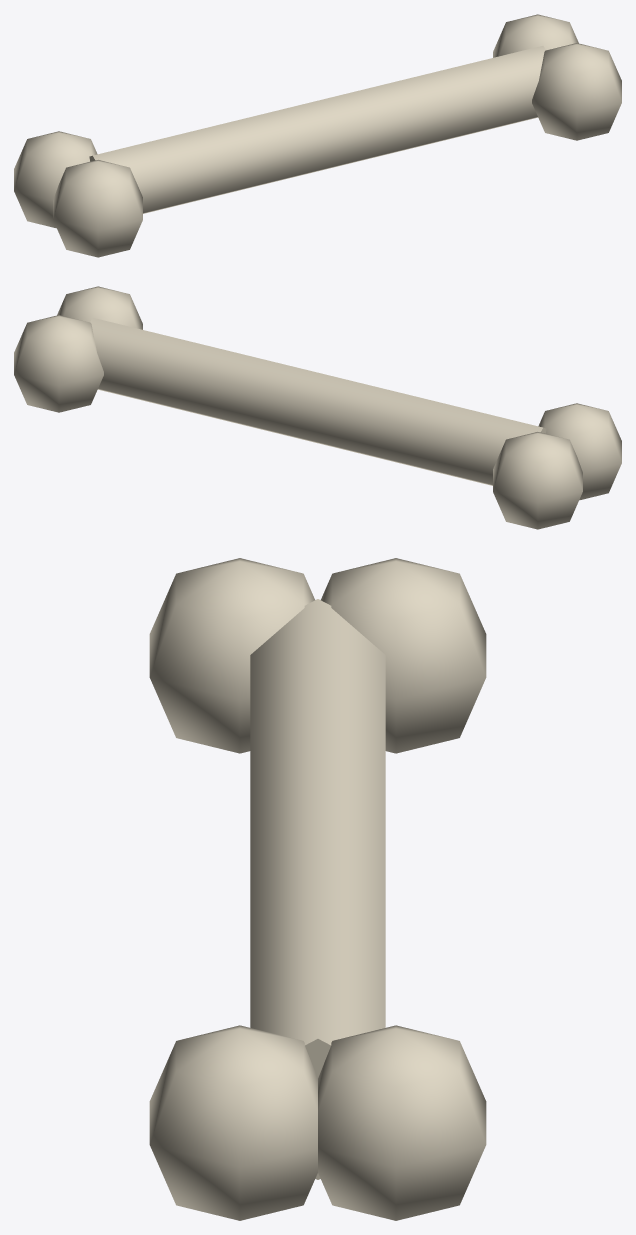
The model's file is col_bone_bleached.gltf.
The picture shows the model from 3 angles, top to bottom: view 1: azimuth 30°, elevation 25°; view 2: azimuth 150°, elevation 25°; view 3: azimuth 270°, elevation 25°; orthographic projection. The views are drawn at different scales.
Visible parts, largest first — view 1: col_bone_bleached; view 2: col_bone_bleached; view 3: col_bone_bleached.
Boxes of the visible parts, x1,y1,x2,y2 form: col_bone_bleached: (14,14,621,257); col_bone_bleached: (14,286,621,529); col_bone_bleached: (149,558,486,1220).
Size of what is drawn, in the model's own units: 0.202 by 0.032 by 0.0517.
